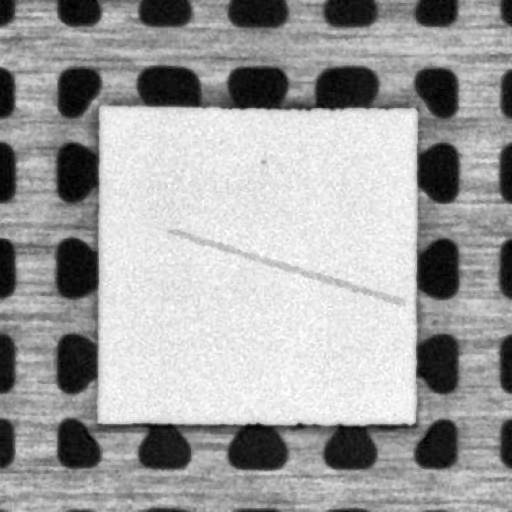DIE_CRACK: (167, 230, 401, 301)
